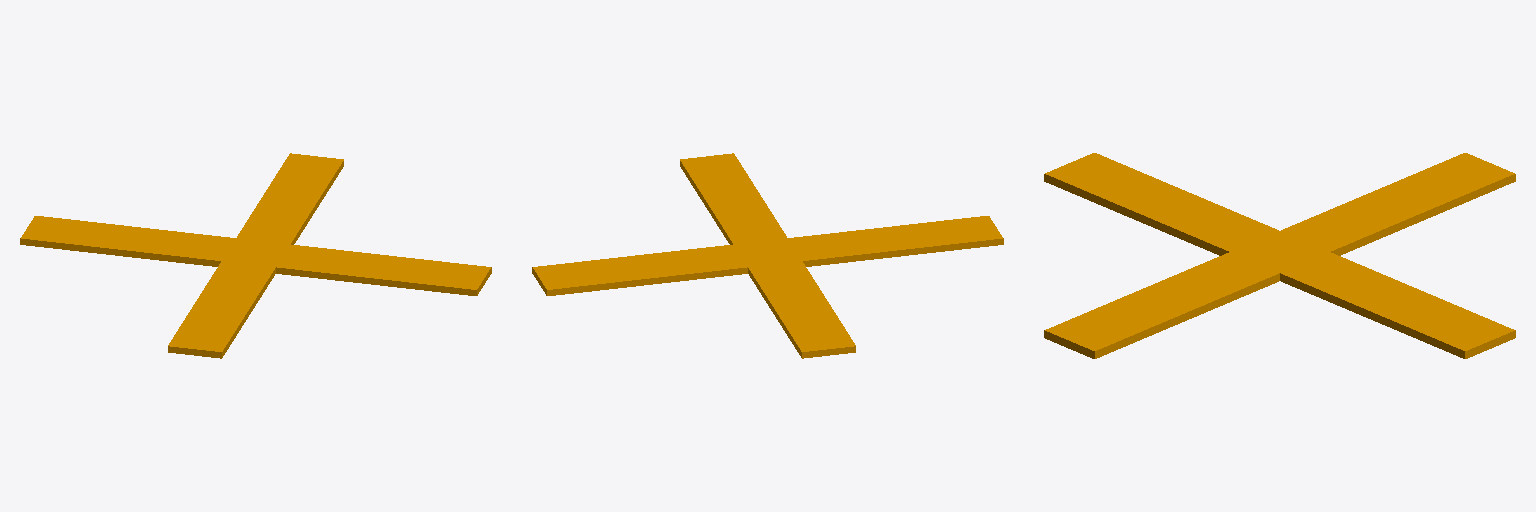
robot.urdf — X_model:
<robot name="X_model">
  <link name="X">
    <inertial>
      <mass value="0.4" />
      <!-- center of mass (com) is defined w.r.t. link local coordinate system -->
      <origin xyz="0 0 0" /> 
      <inertia  ixx="51.123825" ixy="0.0"  ixz="0.0"  iyy="51.123817"  iyz="0.0"  izz="99.618065" />
    </inertial>
      <max_vel>0.1</max_vel>
      <min_depth>0.001</min_depth>
      <mu1>1.0</mu1>
      <mu2>1.0</mu2>
    <visual>
      <!-- visual origin is defined w.r.t. link local coordinate system -->
      <origin xyz="0 0 0" rpy="0 0 0" />
      <geometry>
        <mesh filename="package://system_launch/models/mesh/X_model.dae" scale="0.008 0.008 0.001" />
      </geometry>
    </visual>
    <collision>
      <!-- collision origin is defined w.r.t. link local coordinate system -->
      <origin xyz="0 0 0" rpy="0 0 0" />
      <geometry>
        <mesh filename="package://system_launch/models/mesh/X_model.dae" scale="0.008 0.008 0.001" />
      </geometry>
    </collision>
  </link>
  <gazebo reference="X">
    <material>Gazebo/Black</material>
    <turnGravityOff>false</turnGravityOff>
    <kp>100000000.0</kp>
    <kd>1.0</kd>
  </gazebo>
</robot>

--- Render facts (derived) ---
Views: 3 orthographic renders of the robot side by side, from view 1: azimuth 30°, elevation 25°; view 2: azimuth 150°, elevation 25°; view 3: azimuth 270°, elevation 25°.
Model X_model with 1 links and 0 joints (none), rooted at X, posed all joints at 0.
Links seen in each view (by area): view 1: X; view 2: X; view 3: X.
Boxes of the visible links, x1,y1,x2,y2 form: X: [20, 153, 491, 358]; X: [532, 153, 1003, 358]; X: [1044, 153, 1515, 358].
Bounding box of the posed robot: 0.0531 × 0.0531 × 0.001 m (x, y, z).
Meshes: 1 distinct files referenced, 1 mesh visuals loaded (1 Collada DAE).